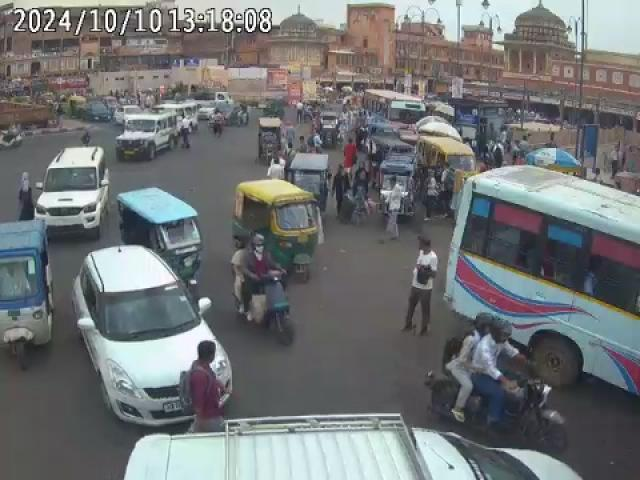auto: (228, 178, 322, 284), (118, 187, 206, 290), (0, 222, 57, 377), (416, 134, 474, 218), (378, 146, 420, 218), (288, 152, 332, 214), (257, 118, 287, 165)
bus: (447, 165, 640, 394), (364, 89, 427, 133)
car: (74, 241, 238, 429), (34, 149, 112, 242), (117, 113, 179, 164), (86, 103, 114, 123)
helmet: (489, 318, 512, 346), (474, 310, 496, 336), (248, 234, 268, 256)
motorbike-rider: (428, 313, 563, 440)
person: (407, 239, 440, 337)
scooty-rider: (228, 232, 292, 342)
